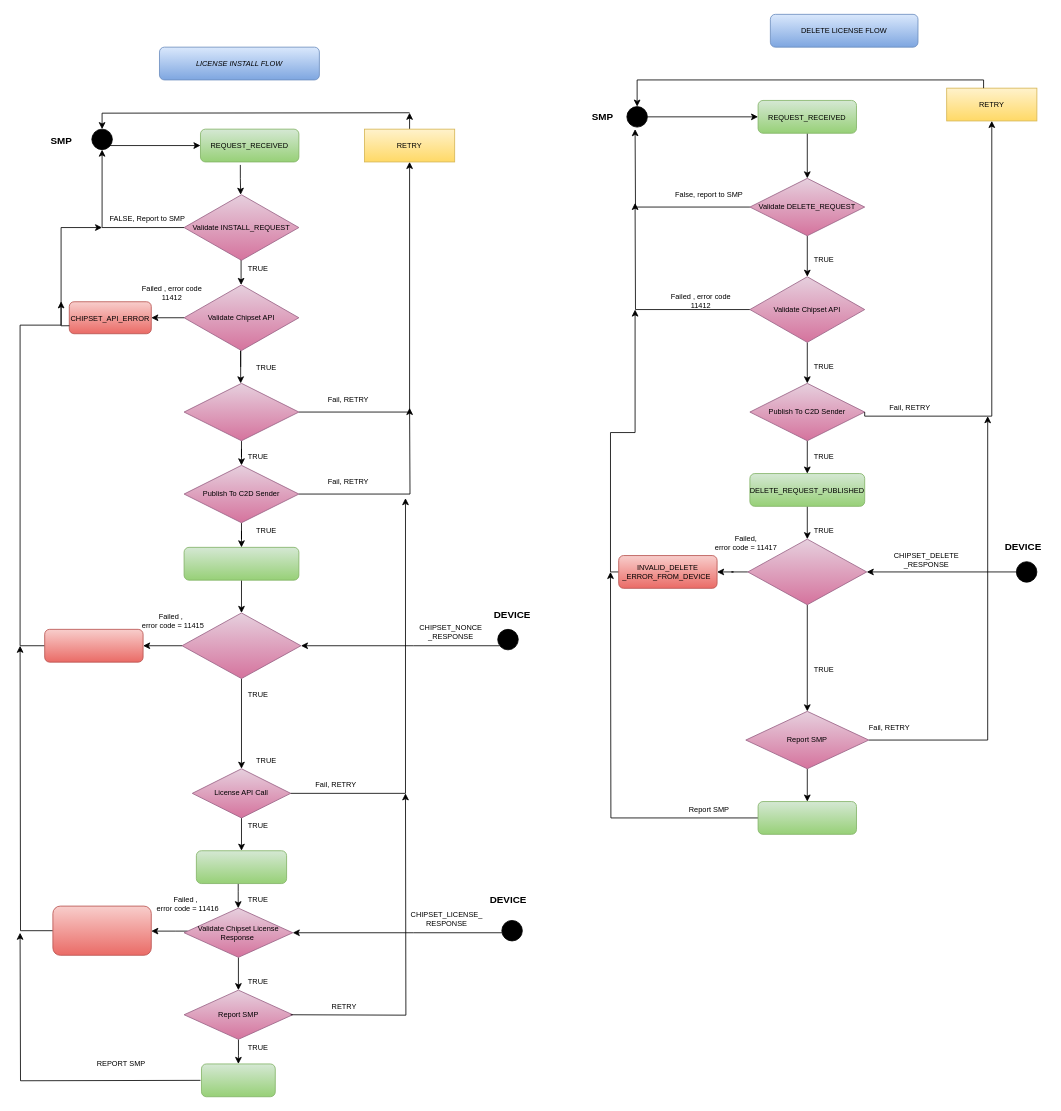
Image size: 1061x1111. Some labels were removed from this diagram. Each missing label, with the centre of its shape:
DELETE_SUCCESS: (806,817)
INSTALL_SUCCESS: (238,1080)
INVALID_LICENSE_ ERROR_FROM_DEVICE: (101,930)
INVALID_NONCE _ERROR_FROM_DEVICE: (93,645)
LICENSE_PUBLISHED: (241,867)
NONCE API CALL: (241,412)
NONCE_REQUEST_PUBLISHED: (241,563)
Validate Chipset Delete Response: (807,571)
Validate Chipset Nonce Response: (241,645)
